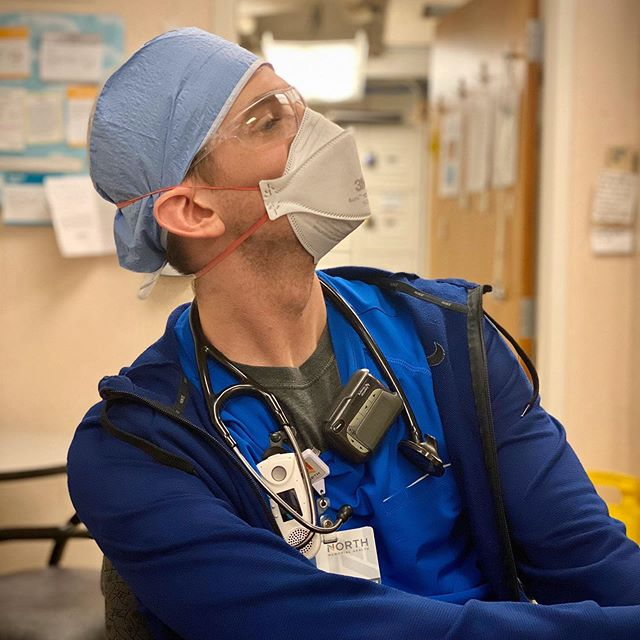n95: (245, 104, 383, 271)
